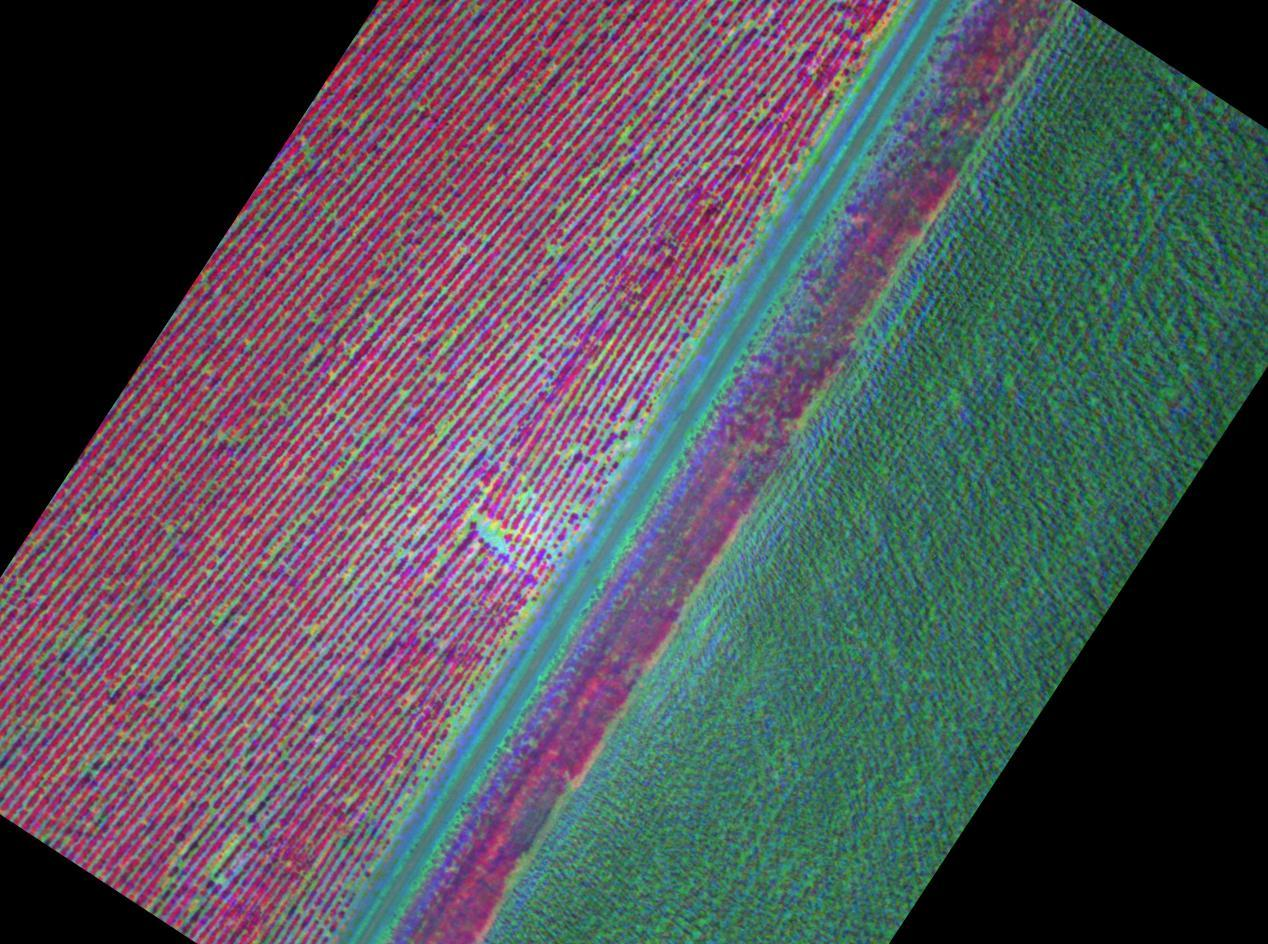dc: (484, 526, 496, 539), (194, 900, 198, 905), (316, 626, 320, 630), (509, 626, 513, 630), (357, 521, 361, 524), (86, 767, 90, 770), (269, 785, 273, 788), (306, 875, 309, 879), (413, 510, 416, 513), (229, 736, 232, 739), (55, 760, 58, 763), (165, 886, 168, 889), (43, 838, 45, 840)
